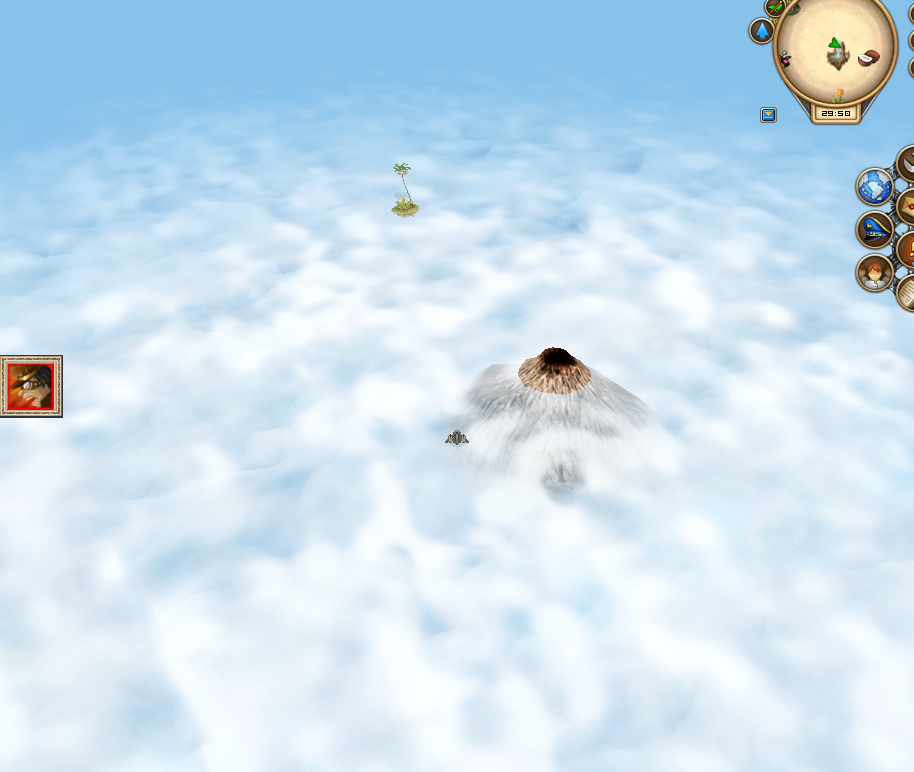palm: (382, 152, 422, 223)
